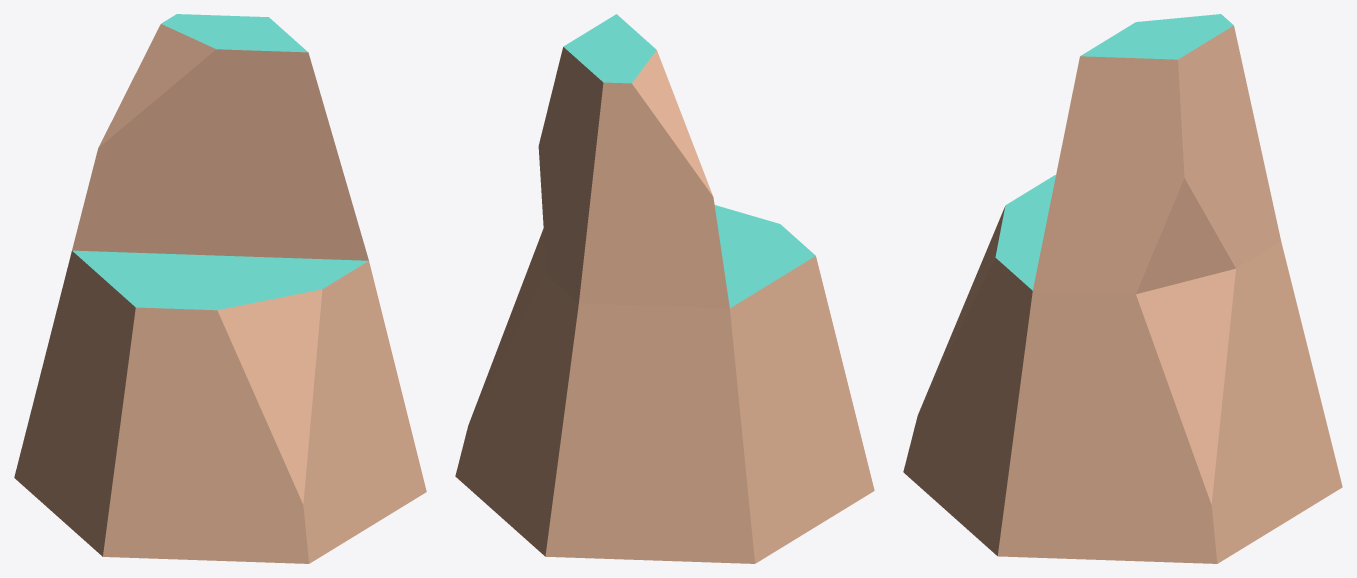
The model's file is rock_tallJ.gltf.
3 renders of one model, left to right at view 1: azimuth 30°, elevation 25°; view 2: azimuth 150°, elevation 25°; view 3: azimuth 270°, elevation 25°, orthographic. The views are drawn at different scales.
Parts seen in each view (by area): view 1: rock_tallJ; view 2: rock_tallJ; view 3: rock_tallJ.
Boxes of the visible parts, x1,y1,x2,y2 form: rock_tallJ: (14,14,426,563); rock_tallJ: (455,14,874,563); rock_tallJ: (903,14,1342,563).
Size of the model in its own units: 0.4879 by 0.62 by 0.5382.
